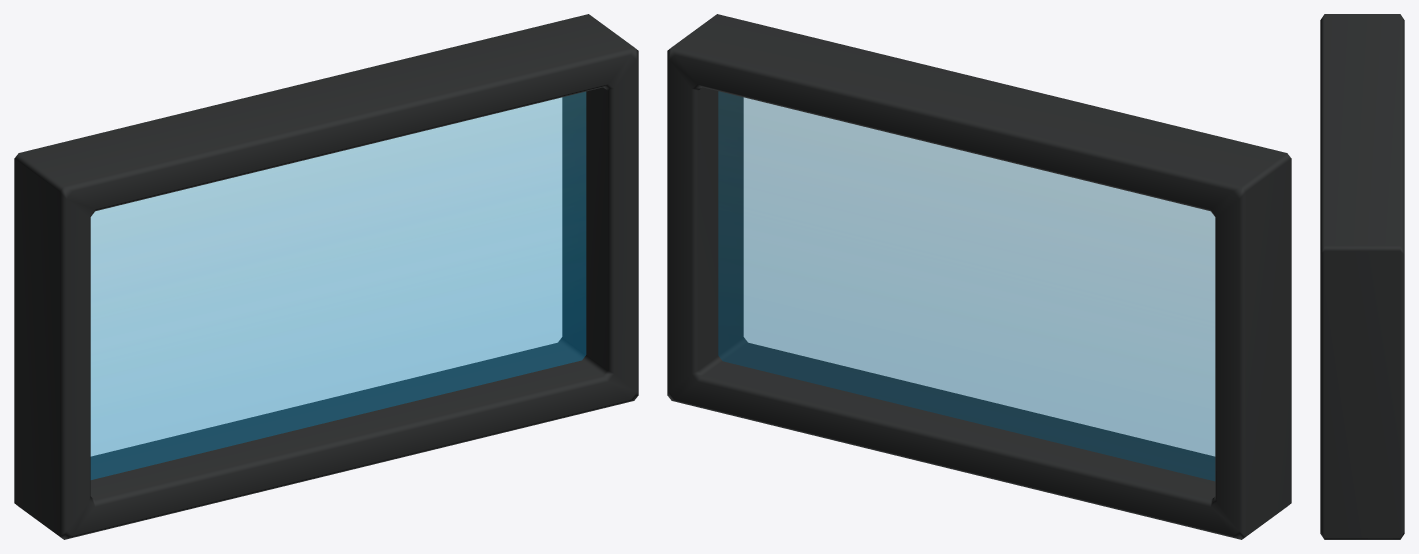
File: Window_Black_05.glb
3 views of the same model, side by side, from view 1: azimuth 30°, elevation 25°; view 2: azimuth 150°, elevation 25°; view 3: azimuth 270°, elevation 25° (orthographic). The views are drawn at different scales.
Visible parts, largest first — view 1: Window_Black_05; view 2: Window_Black_05; view 3: Window_Black_05.
Part boxes in pixels (box(x1,y1,x2,y2)): Window_Black_05: box(14, 14, 638, 539); Window_Black_05: box(667, 14, 1291, 539); Window_Black_05: box(1320, 14, 1404, 539).
Size of the model in its own units: 2.64 by 1.54 by 0.4.
Materials: 2 (2 with a texture image).
